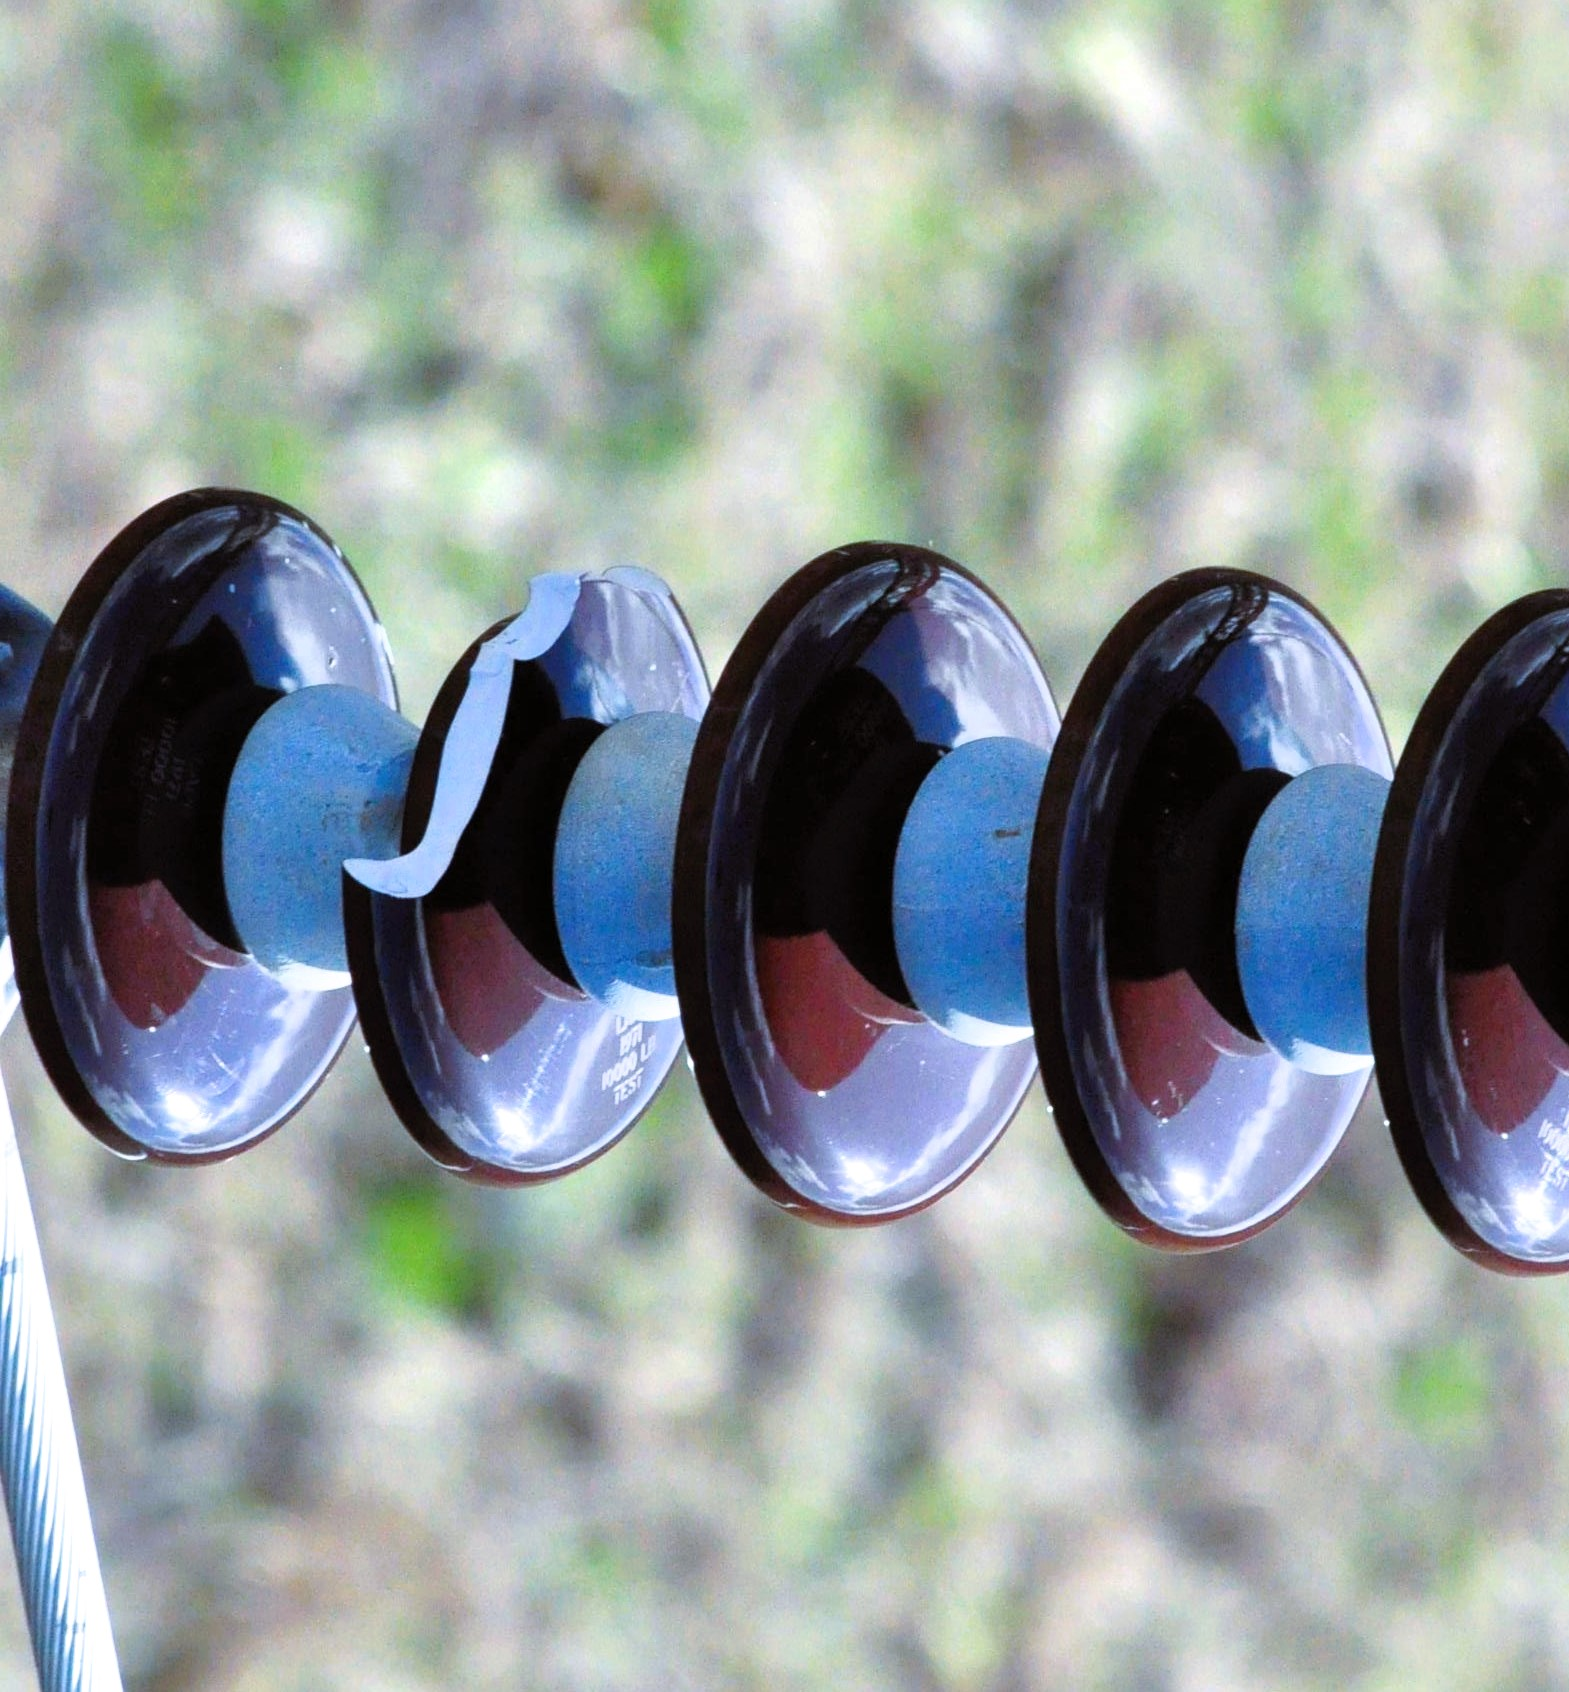insulator breakage: (330, 528, 708, 1207)
